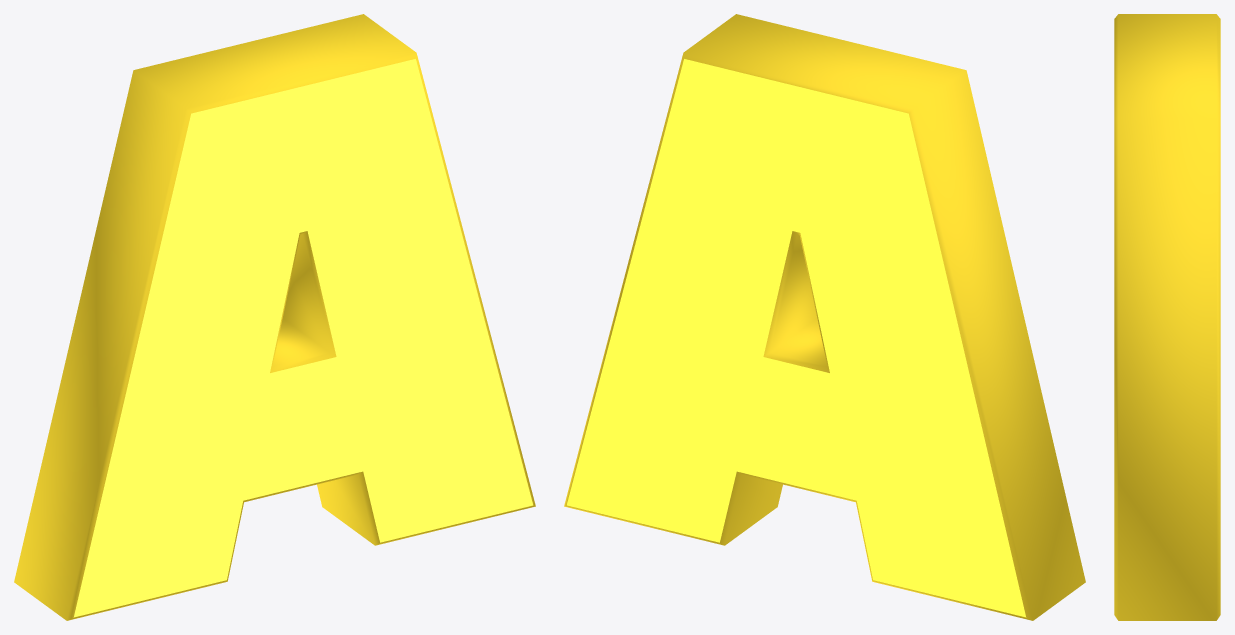
The picture shows the model from 3 angles, left to right: view 1: azimuth 30°, elevation 25°; view 2: azimuth 150°, elevation 25°; view 3: azimuth 270°, elevation 25°; orthographic projection. The views are drawn at different scales.
Visible parts, largest first — view 1: glyph; view 2: glyph; view 3: glyph.
Boxes of the visible parts, box(x1,y1,x2,y2) form: glyph: box(14, 14, 535, 620); glyph: box(564, 14, 1085, 620); glyph: box(1114, 14, 1220, 620).
Bounding box in the file's own units: 0.0768 × 0.0756 × 0.0162.
